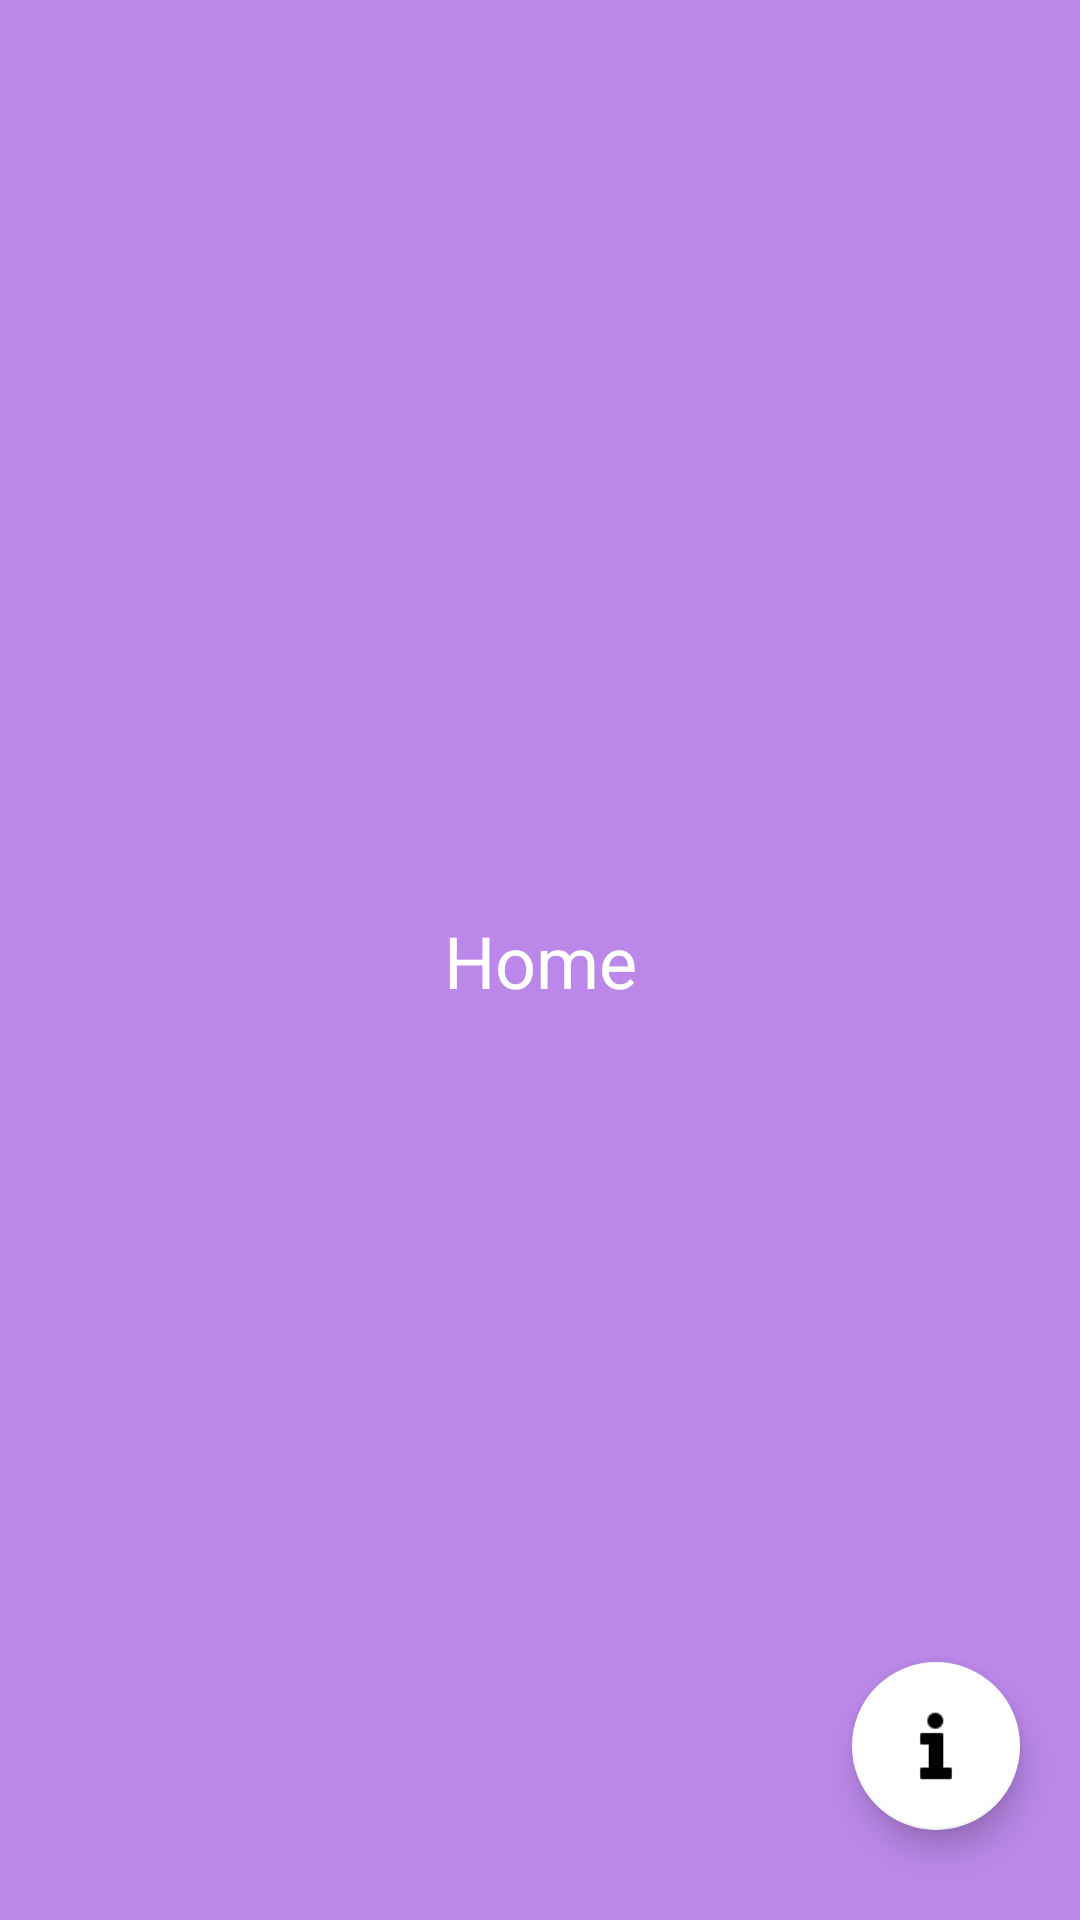

Locate icon controls on the screen. Image size 1080w x 1920h, boxes as [x1, y1, x2, y2].
info: [852, 1662, 1020, 1830]
